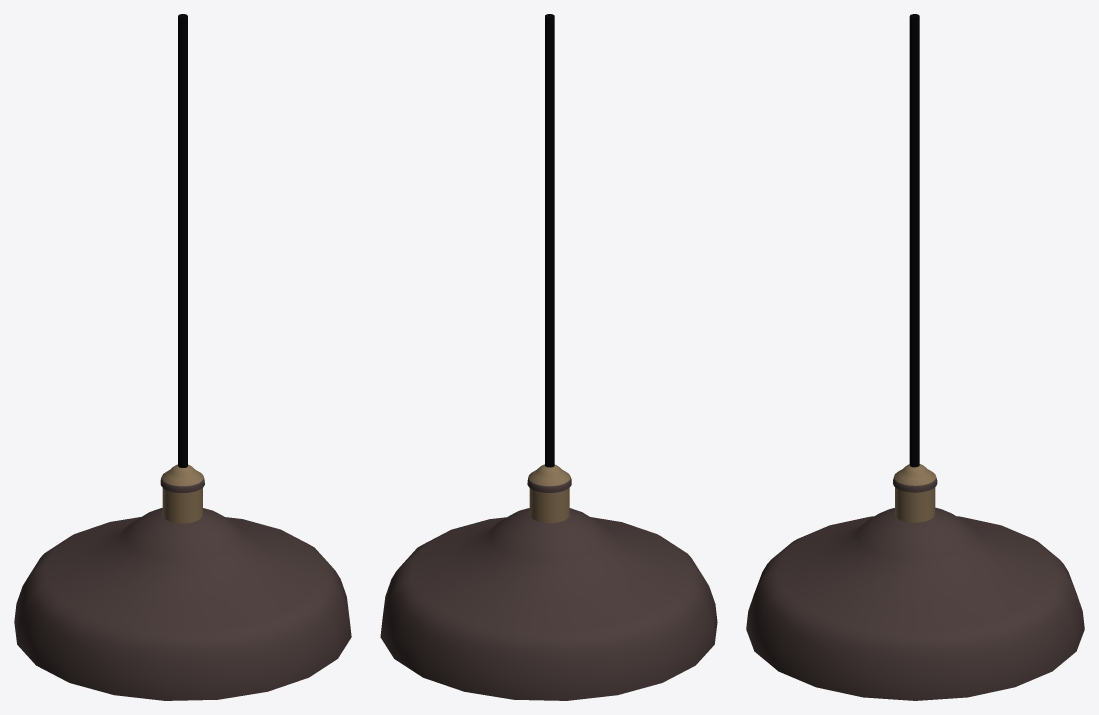
Rendered from Hanging_Lamp.fbx.
The picture shows the model from 3 angles, left to right: view 1: azimuth 30°, elevation 25°; view 2: azimuth 150°, elevation 25°; view 3: azimuth 270°, elevation 25°; orthographic projection.
Visible parts, largest first — view 1: pSphere1, pCylinder2, pCylinder1, pSphere2; view 2: pSphere1, pCylinder2, pCylinder1, pSphere2; view 3: pSphere1, pCylinder2, pCylinder1, pSphere2.
Part boxes in pixels (<box>): pSphere1: <box>14,508,351,700</box>; pCylinder2: <box>178,14,187,467</box>; pCylinder1: <box>162,488,202,523</box>; pSphere2: <box>160,464,204,492</box>; pSphere1: <box>380,508,717,700</box>; pCylinder2: <box>545,14,554,467</box>; pCylinder1: <box>529,488,569,523</box>; pSphere2: <box>527,464,571,492</box>; pSphere1: <box>746,507,1084,700</box>; pCylinder2: <box>909,14,919,467</box>; pCylinder1: <box>895,487,935,522</box>; pSphere2: <box>893,464,937,492</box>.
Size of the model in its own units: 1.06 by 2.11 by 1.06.
